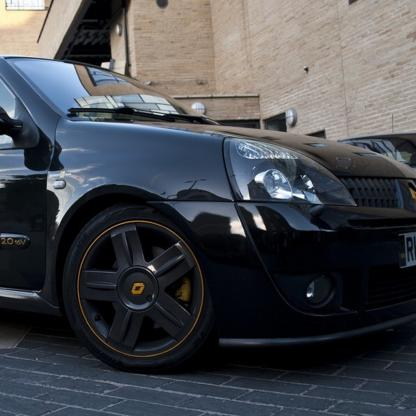Car: (1, 55, 416, 374)
